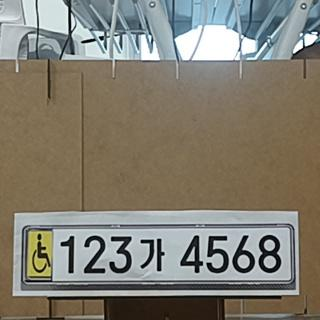disabled: (24, 229, 54, 280)
plate: (20, 224, 297, 291)
